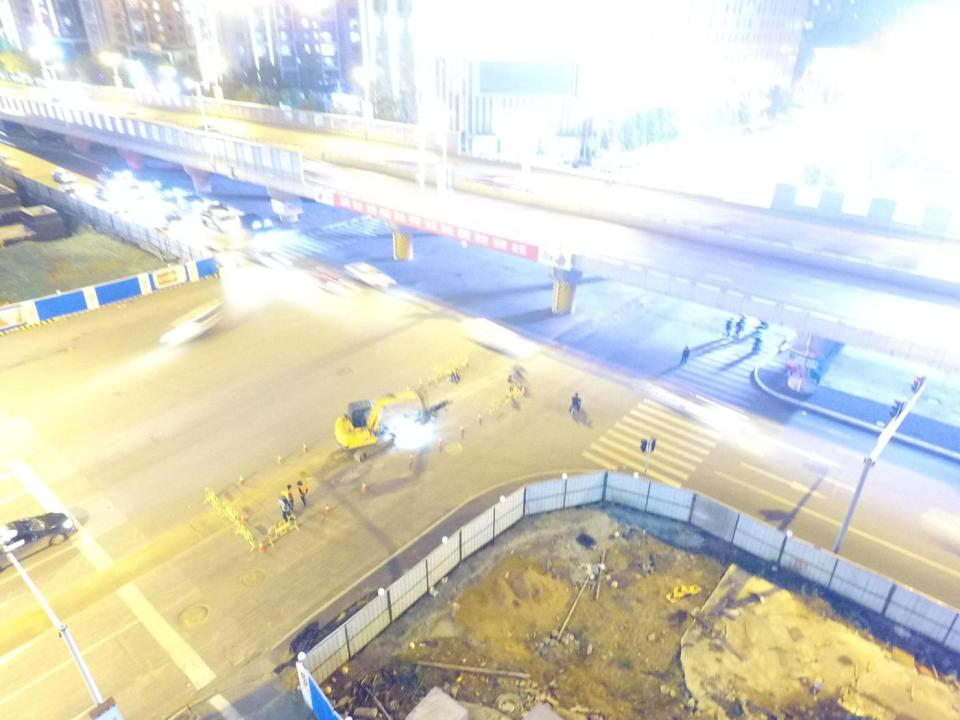car: (1, 512, 75, 579), (458, 316, 540, 360), (159, 300, 222, 345), (344, 262, 396, 289), (242, 242, 290, 268), (196, 244, 231, 268), (241, 212, 272, 231), (58, 185, 82, 206), (51, 167, 75, 184), (182, 194, 203, 212), (1, 155, 22, 170), (199, 125, 219, 134)
truck: (196, 207, 236, 232)
